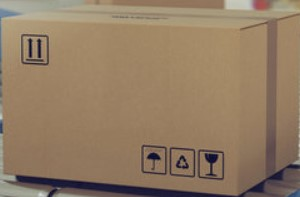stock: (3, 7, 299, 196)
